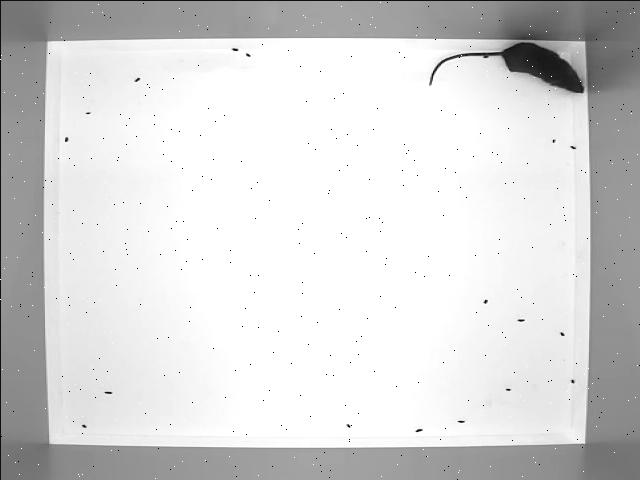Tikus: (424, 41, 582, 92)
